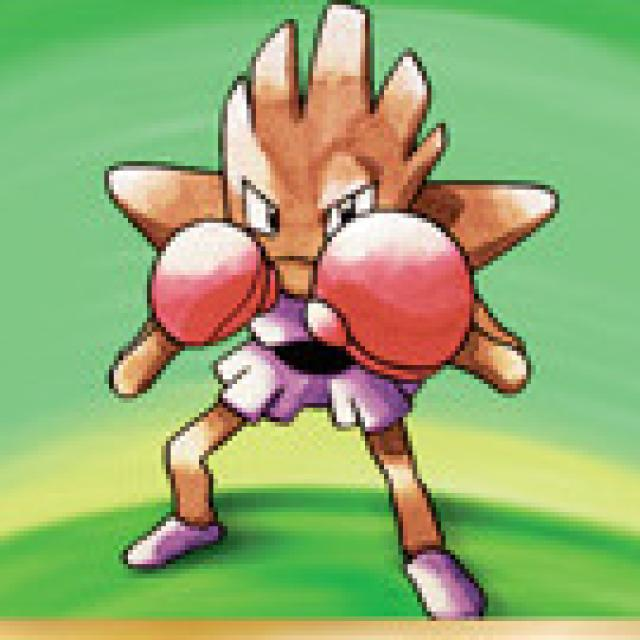Hitmonchan: (94, 7, 564, 629)
